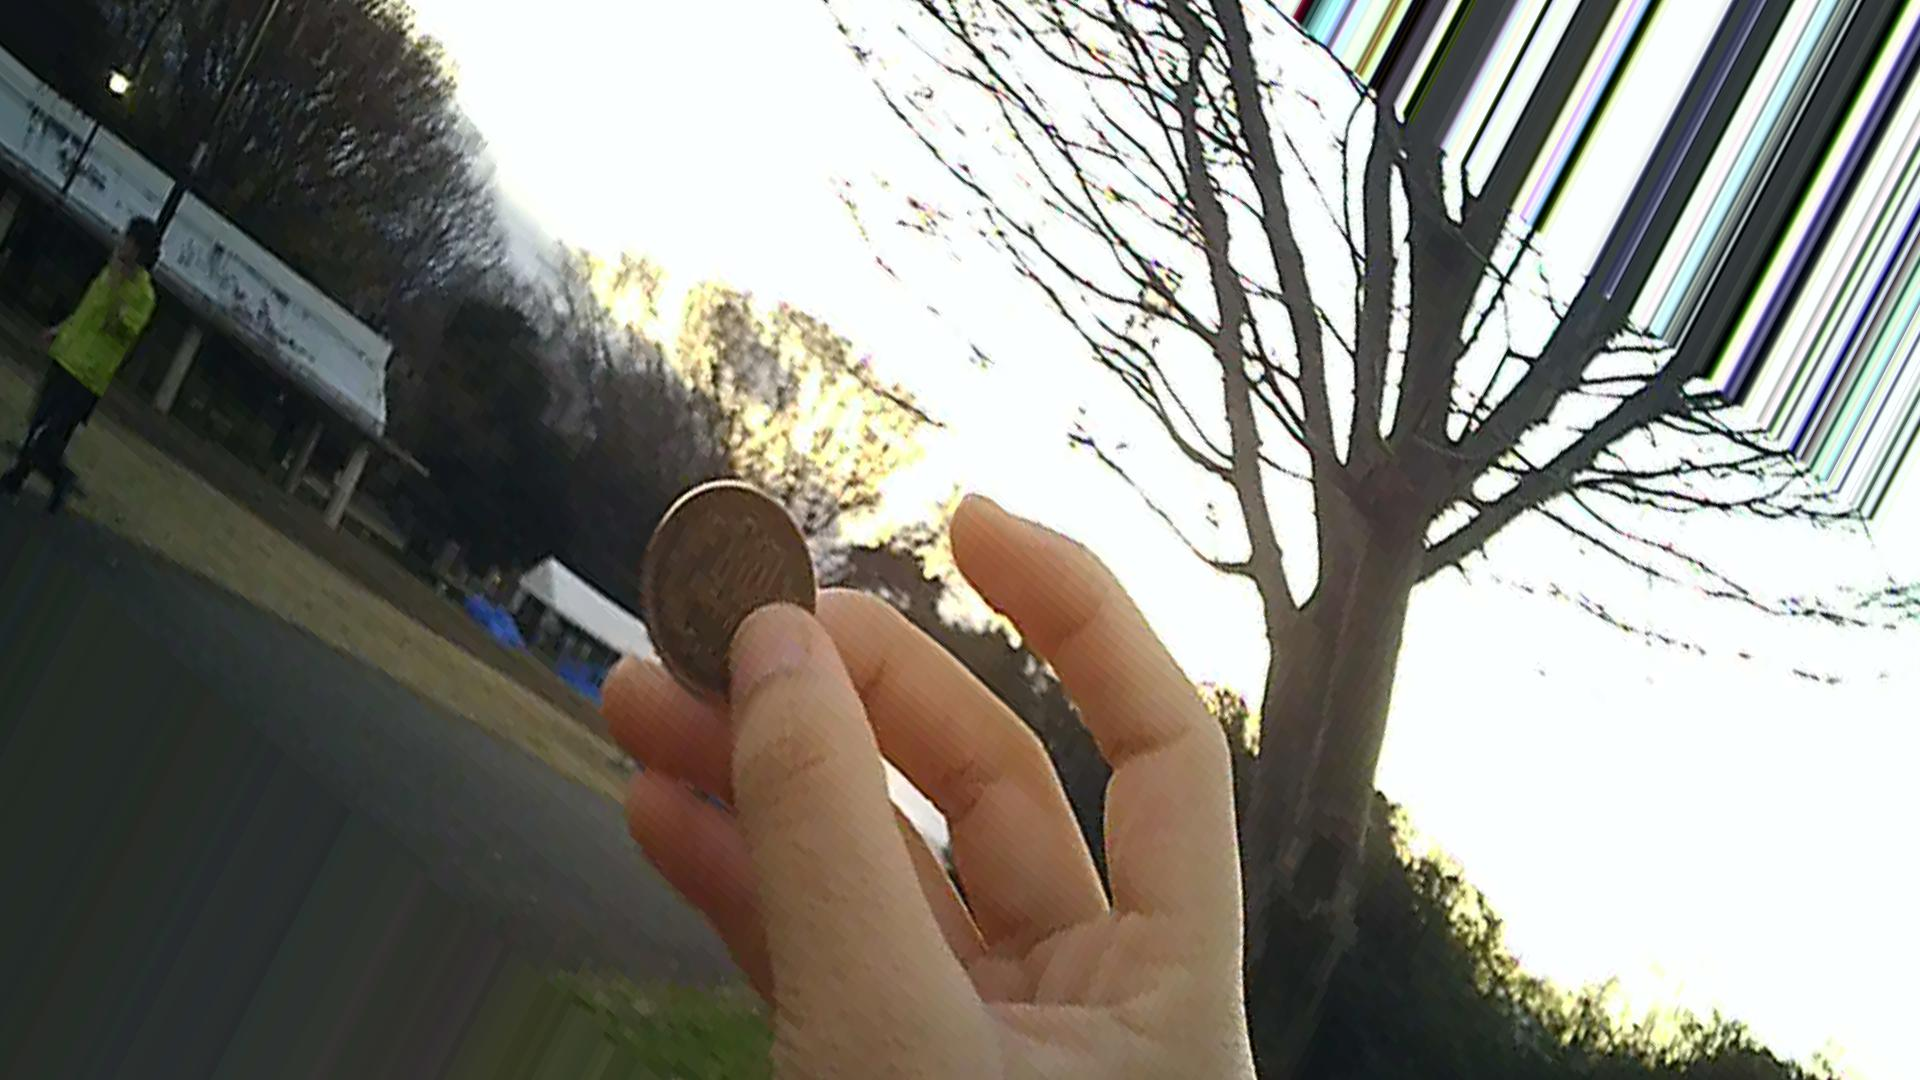10 Yen: (644, 480, 815, 711)
